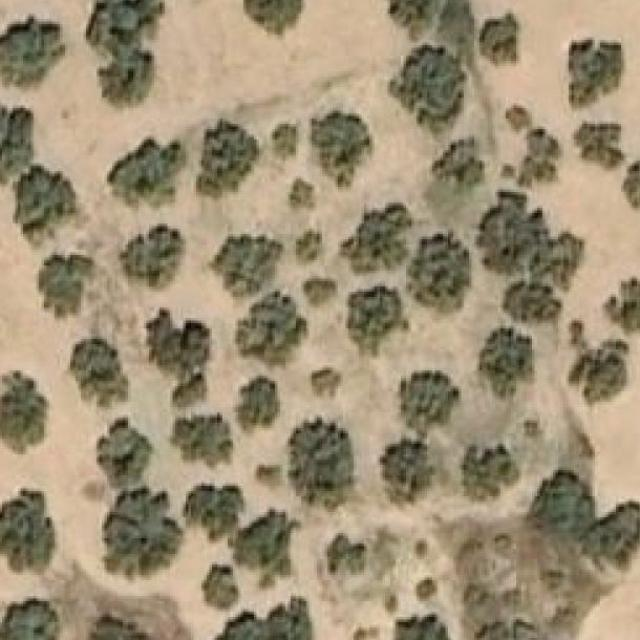Tree: (474, 189, 584, 292), (379, 371, 462, 502), (102, 486, 184, 580), (286, 415, 354, 510), (146, 308, 209, 410), (392, 47, 464, 129), (107, 137, 186, 211), (527, 468, 600, 544), (235, 292, 306, 370), (422, 138, 484, 226), (405, 230, 471, 312), (232, 506, 298, 588), (9, 161, 78, 237), (202, 234, 284, 297), (310, 111, 376, 188), (0, 14, 65, 90), (196, 119, 259, 197), (340, 202, 411, 270), (0, 488, 55, 570), (116, 226, 182, 292), (476, 328, 534, 402), (345, 286, 408, 354), (97, 415, 154, 489), (67, 339, 128, 407), (579, 497, 640, 562), (87, 0, 165, 50), (170, 412, 233, 468), (461, 441, 518, 502), (182, 484, 245, 539), (569, 40, 621, 106), (0, 372, 47, 444), (38, 255, 93, 316), (502, 281, 564, 332), (568, 355, 630, 405), (511, 129, 558, 187), (574, 121, 626, 171), (102, 56, 154, 106), (0, 598, 61, 640), (0, 103, 36, 174), (238, 376, 280, 428), (240, 0, 301, 35), (604, 276, 640, 334), (480, 14, 516, 66), (390, 0, 443, 35), (202, 564, 238, 610), (328, 533, 368, 573), (396, 614, 456, 640), (89, 619, 160, 640), (282, 179, 317, 214), (623, 139, 640, 211), (222, 619, 275, 640), (308, 367, 340, 397), (502, 585, 532, 617), (296, 229, 325, 260), (272, 124, 296, 160), (303, 279, 335, 305), (413, 575, 438, 599)
